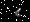person: (15, 8, 24, 20)
